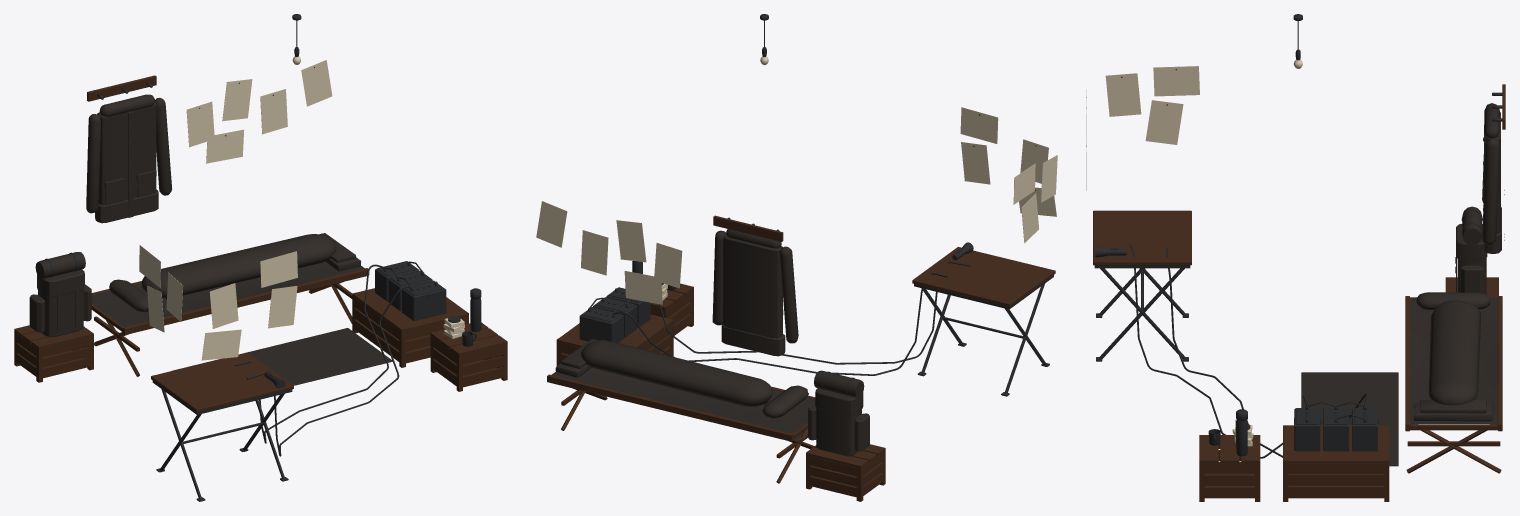
File: leyla_camp.glb
3 renders of one model, left to right at view 1: azimuth 30°, elevation 25°; view 2: azimuth 150°, elevation 25°; view 3: azimuth 270°, elevation 25°, orthographic. The views are drawn at different scales.
Parts seen in each view (by area): view 1: leyla_camp; view 2: leyla_camp; view 3: leyla_camp.
Part boxes in pixels (x1,y1,x2,y2): leyla_camp: [14, 14, 507, 501]; leyla_camp: [536, 14, 1057, 501]; leyla_camp: [1086, 14, 1505, 501].
Size of the model in its own units: 3.01 by 2.91 by 2.76.
